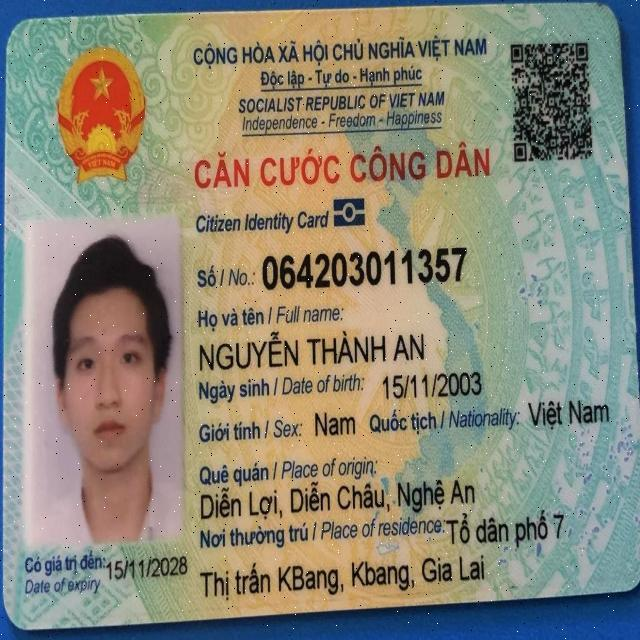current_place: (198, 552, 488, 599), (447, 507, 568, 546)
dob: (379, 366, 483, 399)
expire_date: (105, 552, 189, 585)
gender: (310, 408, 357, 442)
id: (261, 241, 469, 289)
name: (195, 328, 426, 370)
nationality: (523, 396, 615, 430)
origin_place: (198, 479, 480, 520)
